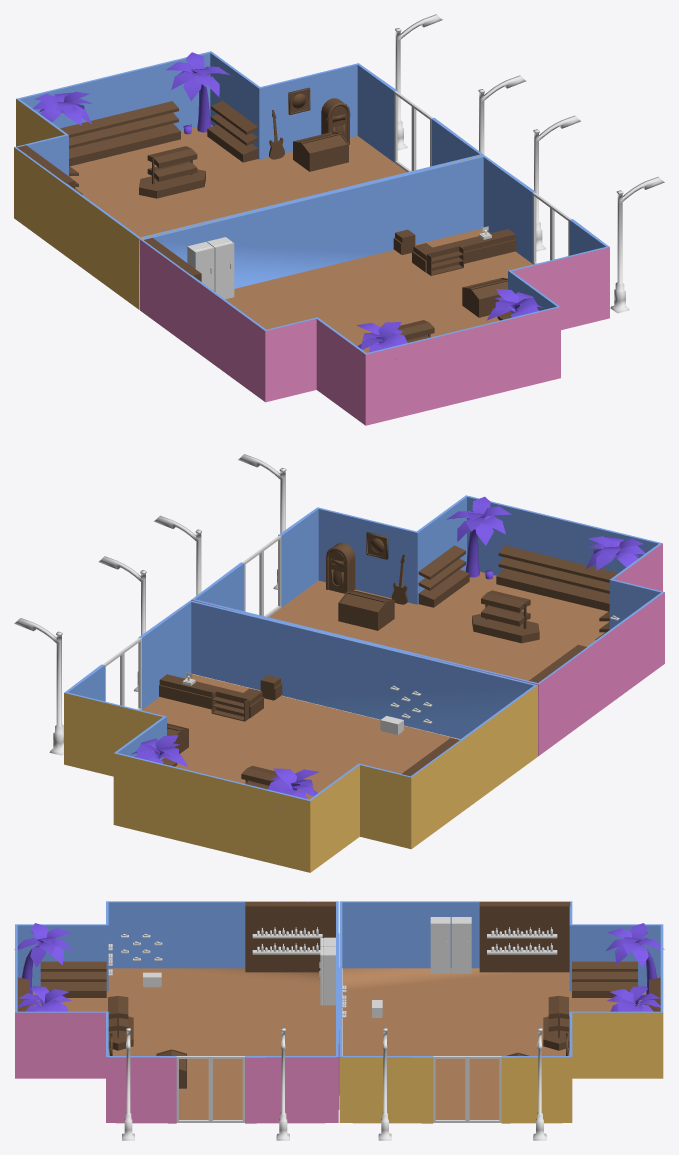
File: TiendaDoble.fbx
3 views of the same model, one above another, from view 1: azimuth 30°, elevation 25°; view 2: azimuth 150°, elevation 25°; view 3: azimuth 270°, elevation 25° (orthographic). The views are drawn at different scales.
Visible parts, largest first — view 1: Suelo.002, Suelo.003, Suelo, Suelo.004, EstantesFrutaPared.003, Guitarra2.001, Palmera.001, stand_low.001, Puesto, Cube.003, Palmera, EstantesFrutaPared.004 (+7 smaller); view 2: Suelo.003, Suelo.002, Suelo.004, Suelo, EstantesFrutaPared, Guitarra2, Palmera, stand_low, Puesto.001, Palmera.001, EstantesFrutaPared.001, Cube.004 (+4 smaller); view 3: Suelo.002, Suelo.003, Suelo.004, Suelo, Pared.001, Pared, Palmera, Palmera.001, EstantesFrutaPared.002, EstantesFrutaPared.005, Cube.003, stand_low.001 (+12 smaller).
Boxes of the visible parts, x1,y1,x2,y2 form: Suelo.002: [140, 155, 609, 425]; Suelo.003: [14, 51, 483, 309]; Suelo: [225, 228, 532, 352]; Suelo.004: [69, 124, 406, 237]; EstantesFrutaPared.003: [60, 101, 180, 166]; Guitarra2.001: [269, 87, 350, 171]; Palmera.001: [33, 52, 230, 134]; stand_low.001: [139, 146, 205, 198]; Puesto: [393, 229, 516, 272]; Cube.003: [533, 115, 664, 313]; Palmera: [356, 289, 542, 359]; EstantesFrutaPared.004: [207, 100, 258, 162]; Suelo.003: [64, 600, 537, 872]; Suelo.002: [191, 495, 664, 756]; Suelo.004: [142, 674, 459, 799]; Suelo: [269, 569, 609, 680]; EstantesFrutaPared: [496, 545, 618, 611]; Guitarra2: [325, 532, 407, 630]; Palmera: [446, 496, 645, 579]; stand_low: [472, 590, 539, 643]; Puesto.001: [159, 674, 282, 718]; Palmera.001: [131, 735, 318, 806]; EstantesFrutaPared.001: [418, 545, 469, 607]; Cube.004: [14, 556, 146, 755]; Suelo.002: [15, 901, 339, 1123]; Suelo.003: [338, 901, 663, 1123]; Suelo.004: [342, 968, 648, 1119]; Suelo: [30, 968, 335, 1119]; Pared.001: [479, 902, 570, 972]; Pared: [245, 902, 335, 972]; Palmera: [14, 923, 72, 1011]; Palmera.001: [606, 923, 664, 1011]; EstantesFrutaPared.002: [40, 961, 106, 997]; EstantesFrutaPared.005: [572, 961, 637, 997]; Cube.003: [122, 1028, 289, 1140]; stand_low.001: [543, 996, 569, 1050].
Size of what is drawn, in the model's own units: 966 by 275 by 1431.
